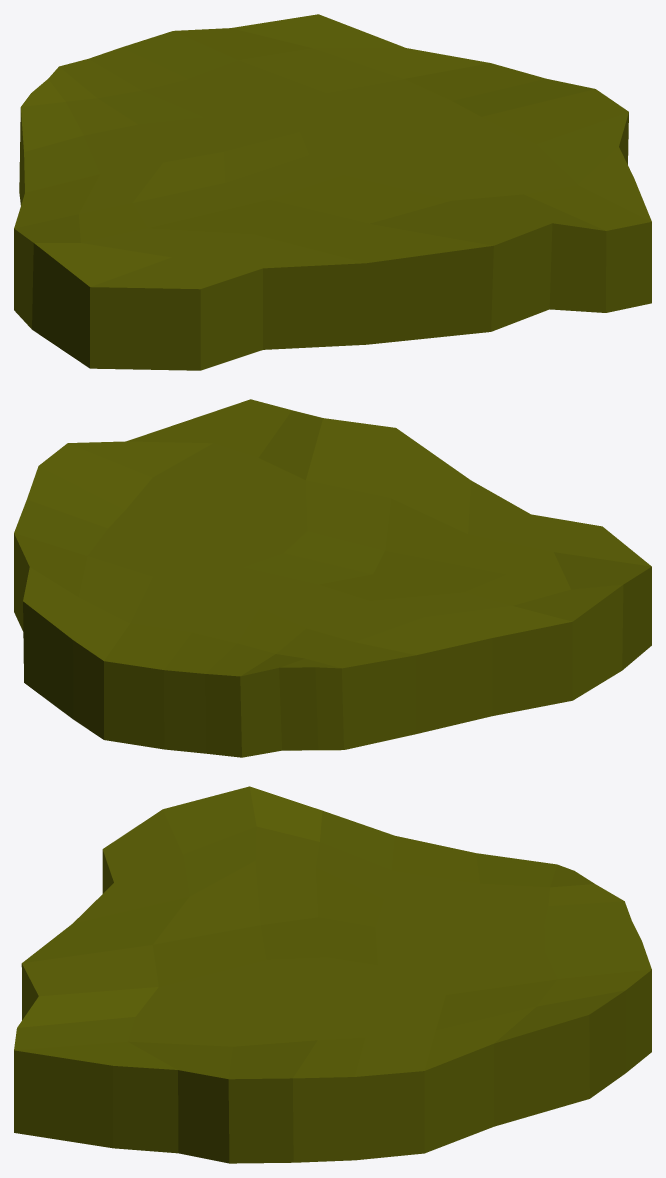
The model's file is mod_terrain01_p1.fbx.
The picture shows the model from 3 angles, top to bottom: view 1: azimuth 30°, elevation 25°; view 2: azimuth 150°, elevation 25°; view 3: azimuth 270°, elevation 25°; orthographic projection. The views are drawn at different scales.
Parts seen in each view (by area): view 1: mod_terrain01_p1; view 2: mod_terrain01_p1; view 3: mod_terrain01_p1.
Boxes of the visible parts, x1=… form: mod_terrain01_p1: x1=14, y1=14, x2=651, y2=370; mod_terrain01_p1: x1=14, y1=399, x2=651, y2=757; mod_terrain01_p1: x1=14, y1=786, x2=651, y2=1163.
Bounding box in the file's own units: 2253 × 367 × 2102.
